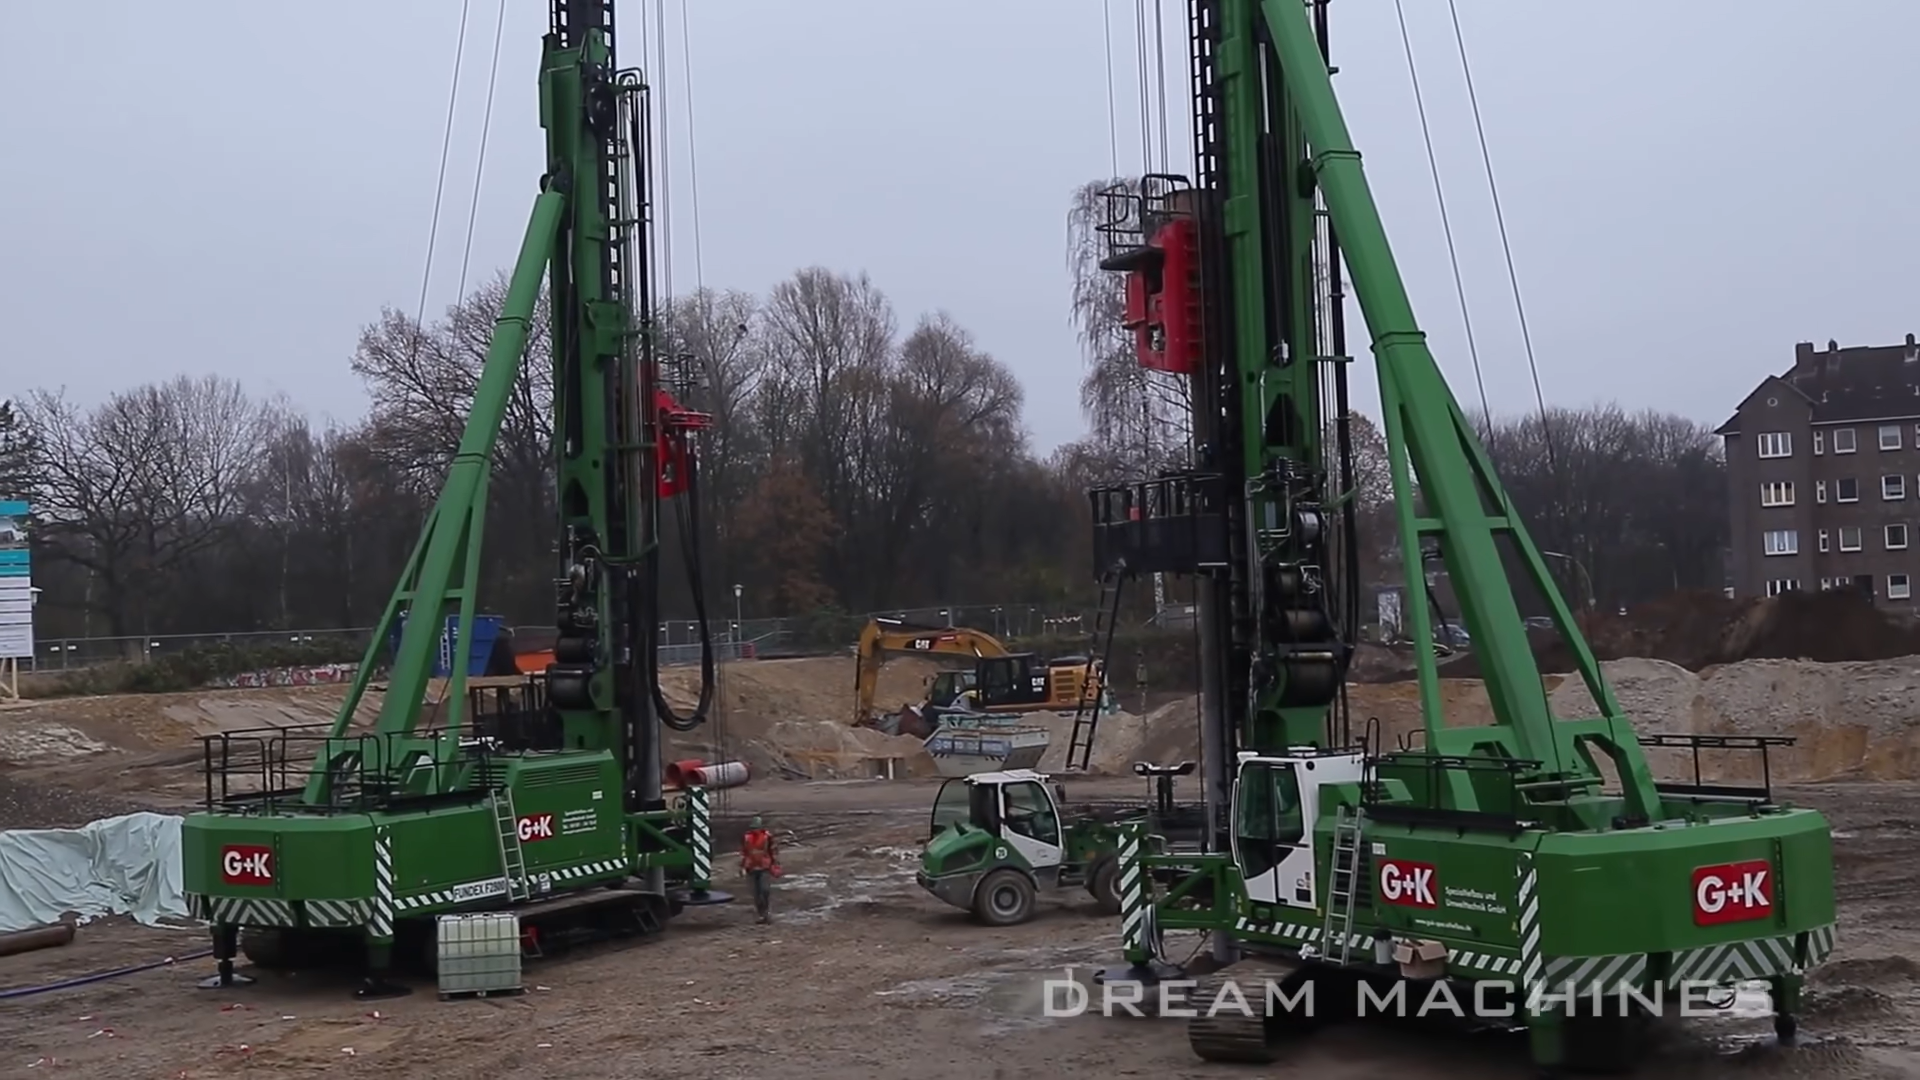excavator: (847, 589, 1124, 731)
